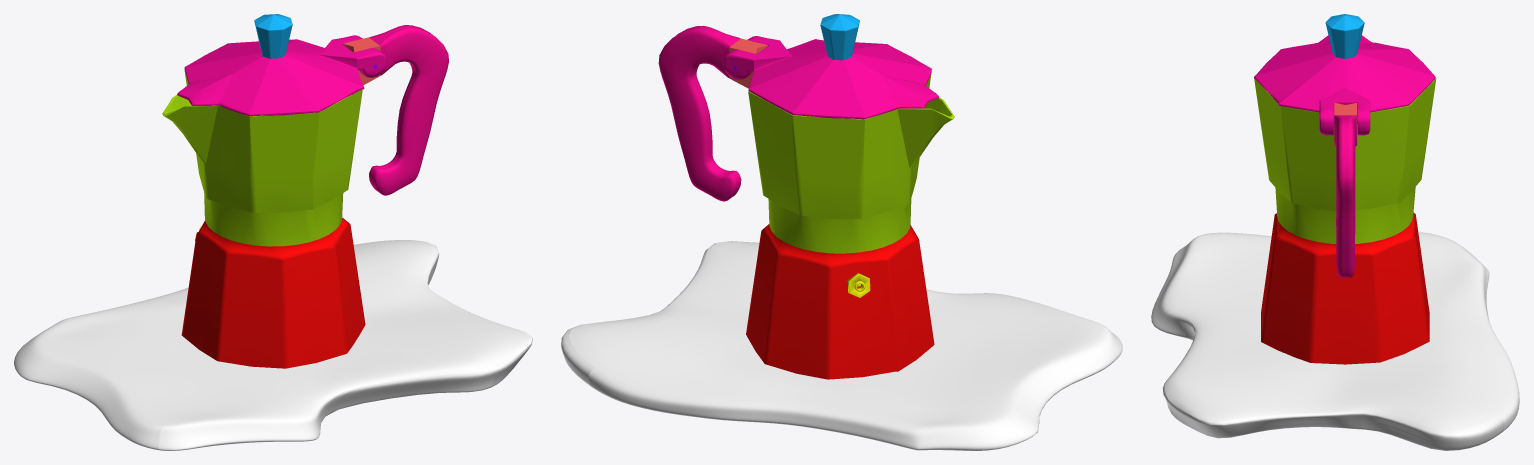
The picture shows the model from 3 angles, left to right: view 1: azimuth 30°, elevation 25°; view 2: azimuth 150°, elevation 25°; view 3: azimuth 270°, elevation 25°; orthographic projection. The views are drawn at different scales.
Parts seen in each view (by area): view 1: wood_main, Moka5_main, Coppa_main, Coperchio_main, Manico_main, Pirolo_main; view 2: wood_main, Coppa_main, Moka5_main, Coperchio_main, Manico_main, Pirolo_main; view 3: wood_main, Moka5_main, Coppa_main, Coperchio_main, Manico_main, Pirolo_main.
Part boxes in pixels (x1,y1,x2,y2): wood_main: (14, 240, 532, 450); Moka5_main: (181, 218, 365, 368); Coppa_main: (162, 69, 362, 246); Coperchio_main: (177, 35, 386, 116); Manico_main: (369, 25, 448, 195); Pirolo_main: (254, 14, 292, 58); wood_main: (561, 241, 1122, 450); Coppa_main: (748, 71, 954, 253); Moka5_main: (746, 224, 934, 379); Coperchio_main: (723, 36, 939, 119); Manico_main: (658, 25, 741, 201); Pirolo_main: (820, 14, 859, 60); wood_main: (1151, 232, 1519, 450); Moka5_main: (1261, 213, 1429, 364); Coppa_main: (1254, 78, 1436, 243); Coperchio_main: (1254, 35, 1435, 135); Manico_main: (1334, 115, 1356, 277); Pirolo_main: (1325, 14, 1364, 58).
Size of the model in its own units: 2.86 by 2.17 by 2.12.
